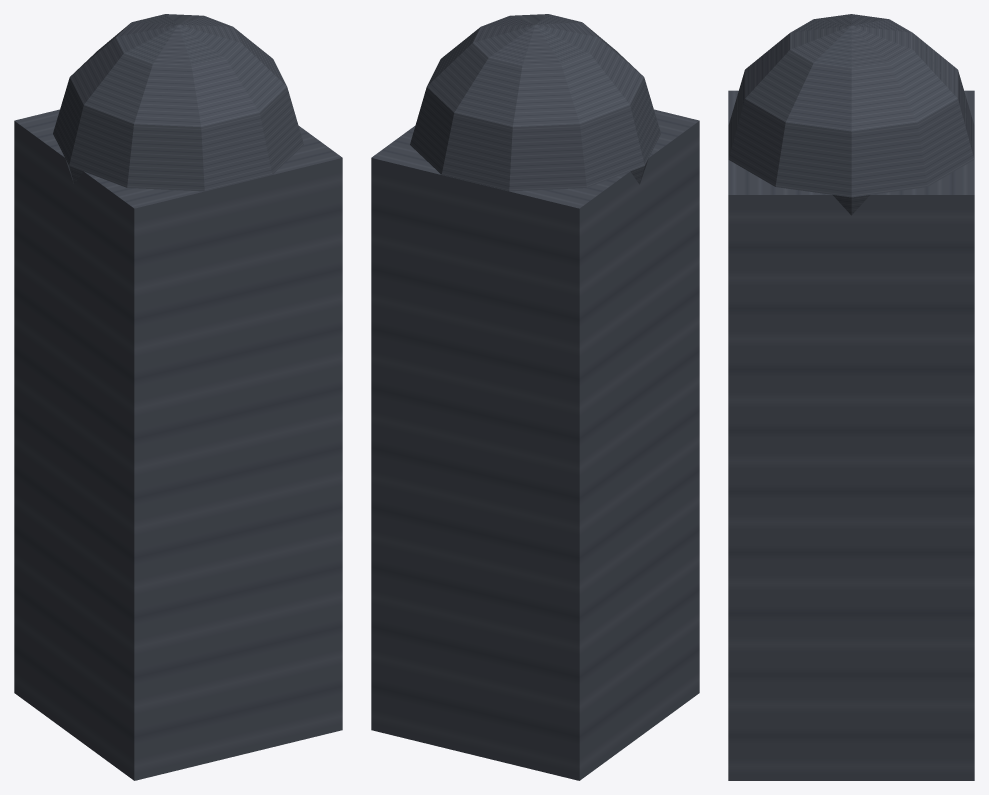
File: arrodillado_muslo_der.obj
The picture shows the model from 3 angles, left to right: view 1: azimuth 30°, elevation 25°; view 2: azimuth 150°, elevation 25°; view 3: azimuth 270°, elevation 25°; orthographic projection. The views are drawn at different scales.
Parts seen in each view (by area): view 1: arrodillado_muslo_der; view 2: arrodillado_muslo_der; view 3: arrodillado_muslo_der.
Part boxes in pixels (x1,y1,x2,y2): arrodillado_muslo_der: (14, 14, 342, 780); arrodillado_muslo_der: (371, 14, 699, 780); arrodillado_muslo_der: (728, 14, 974, 780).
Bounding box in the file's own units: 0.084 × 0.252 × 0.08.
1 material, 1 textured.
